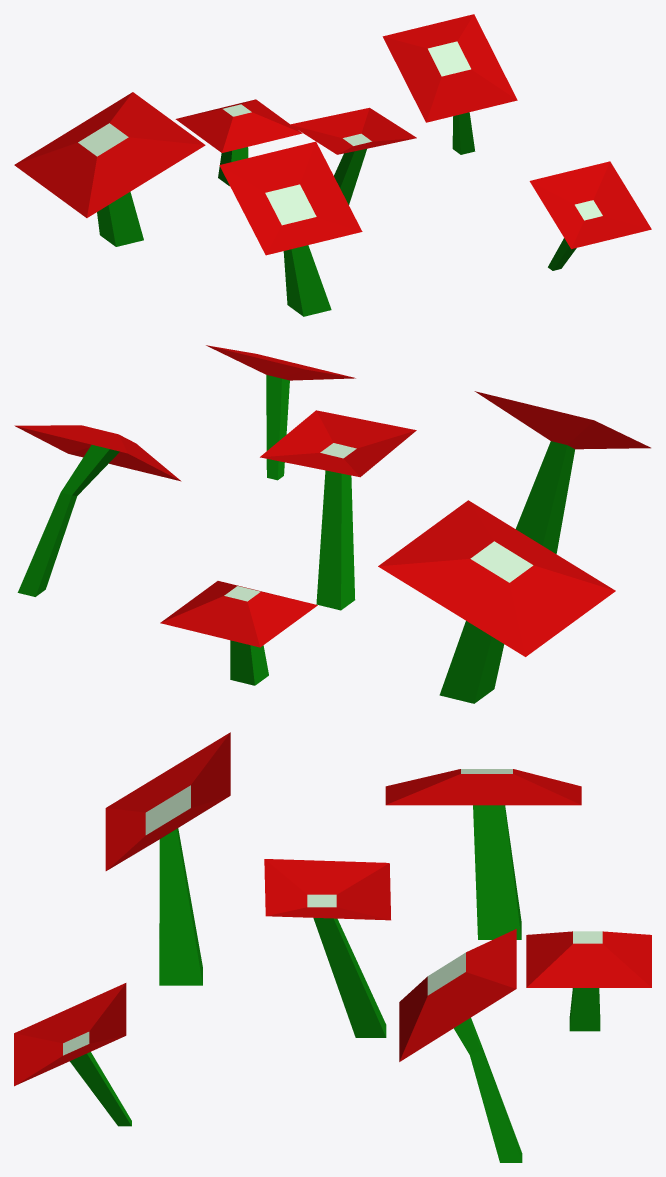
File: SM_Flower2.fbx
The picture shows the model from 3 angles, top to bottom: view 1: azimuth 30°, elevation 25°; view 2: azimuth 150°, elevation 25°; view 3: azimuth 270°, elevation 25°; orthographic projection. The views are drawn at different scales.
Visible parts, largest first — view 1: Flower2; view 2: Flower2; view 3: Flower2.
Boxes of the visible parts, x1,y1,x2,y2 form: Flower2: (14,14,651,316); Flower2: (14,345,650,703); Flower2: (14,732,651,1162).
Size of the model in its own units: 17.21 by 5.52 by 16.2.
